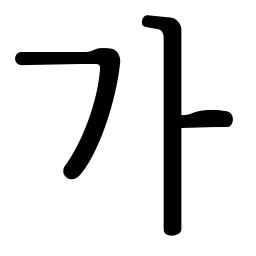Gaji: (145, 101, 203, 148)
